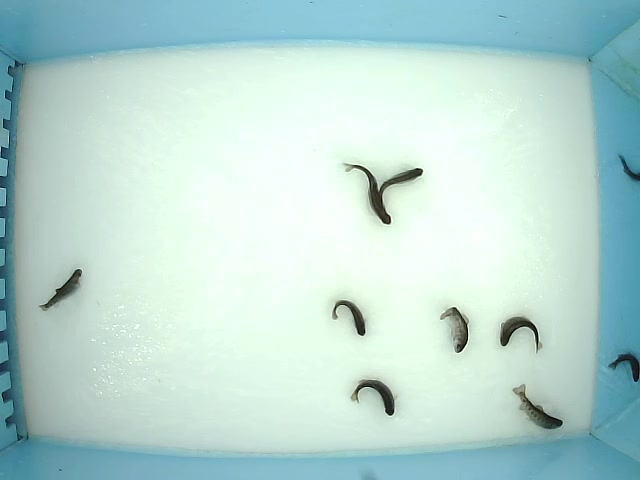fish: (340, 161, 391, 226), (512, 384, 563, 431), (38, 268, 84, 313), (350, 378, 399, 417), (499, 314, 544, 355), (377, 167, 423, 205), (439, 305, 470, 355), (331, 299, 367, 337), (607, 351, 640, 384)
